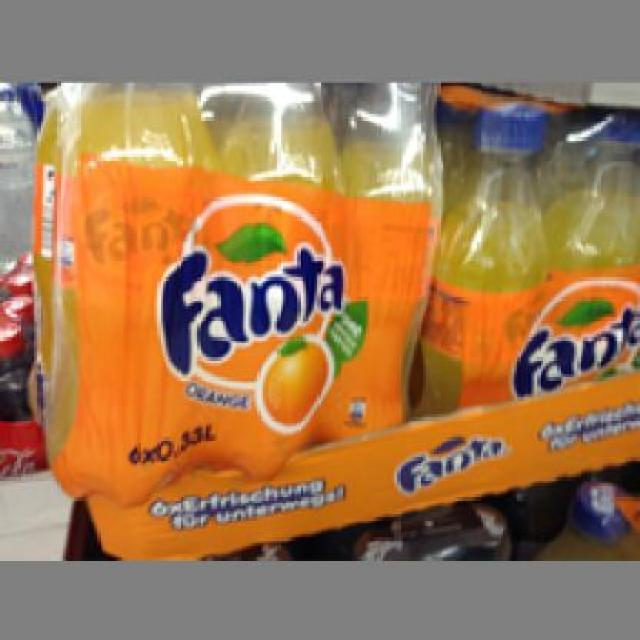Soda: (52, 80, 212, 494), (209, 80, 337, 477), (323, 83, 440, 440), (417, 102, 546, 412), (545, 105, 638, 388)
